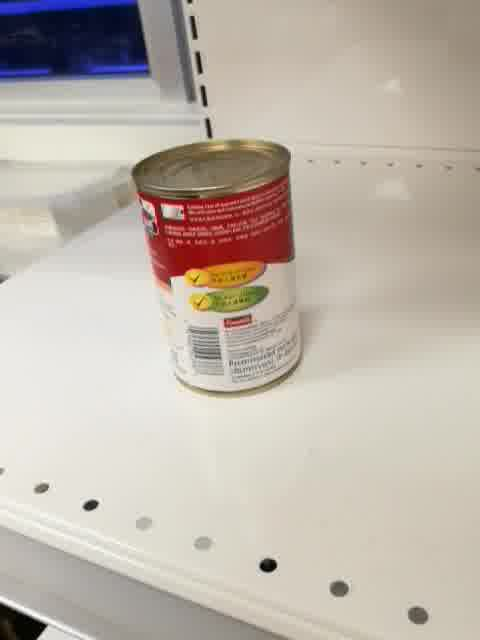tomatosoup: (129, 134, 304, 398)
